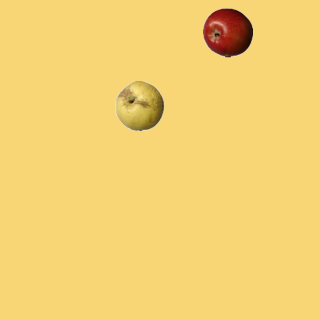Apple Braeburn: (202, 7, 252, 57)
Apple Golden 1: (114, 80, 164, 130)
